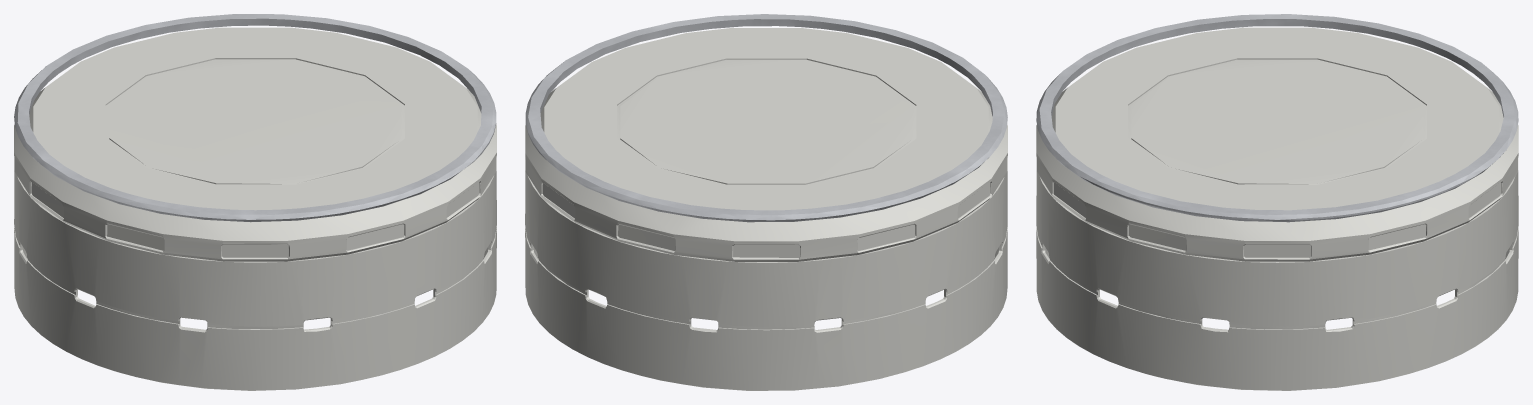
File: ax_prop_05_cluster_plate_xl.glb
The picture shows the model from 3 angles, left to right: view 1: azimuth 30°, elevation 25°; view 2: azimuth 150°, elevation 25°; view 3: azimuth 270°, elevation 25°; orthographic projection.
Visible parts, largest first — view 1: thrust_plate, aft_skirt, interface_ring; view 2: thrust_plate, aft_skirt, interface_ring; view 3: thrust_plate, aft_skirt, interface_ring.
Part boxes in pixels (x1,y1,x2,y2): thrust_plate: (14, 27, 496, 261); aft_skirt: (14, 171, 496, 390); interface_ring: (14, 14, 496, 222); thrust_plate: (525, 28, 1007, 261); aft_skirt: (525, 172, 1007, 390); interface_ring: (525, 14, 1007, 222); thrust_plate: (1036, 27, 1518, 261); aft_skirt: (1036, 172, 1518, 390); interface_ring: (1036, 14, 1518, 222).
Size of the model in its own units: 5 by 2.03 by 5.
Materials: 3 (2 with a texture image).
